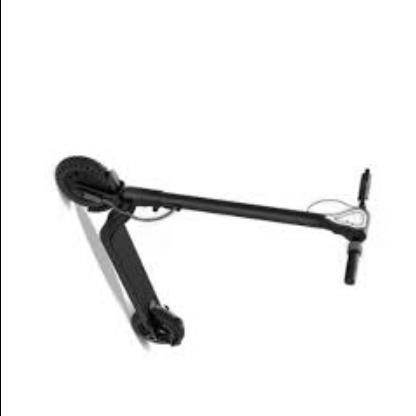bike: (54, 155, 373, 348)
